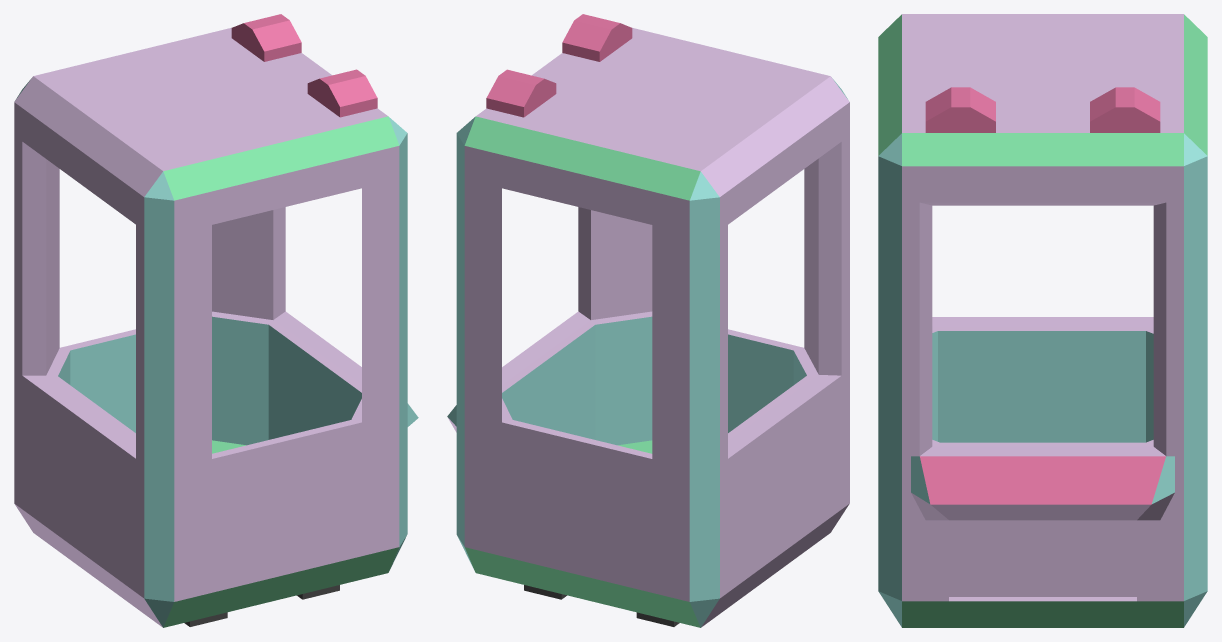
File: claw_2.fbx
The picture shows the model from 3 angles, left to right: view 1: azimuth 30°, elevation 25°; view 2: azimuth 150°, elevation 25°; view 3: azimuth 270°, elevation 25°; orthographic projection. The views are drawn at different scales.
Parts seen in each view (by area): view 1: Cube; view 2: Cube; view 3: Cube.
Part boxes in pixels (x1,y1,x2,y2): Cube: [14, 14, 418, 627]; Cube: [447, 14, 849, 627]; Cube: [878, 14, 1207, 627].
Size of the model in its own units: 220 by 363 by 201.
